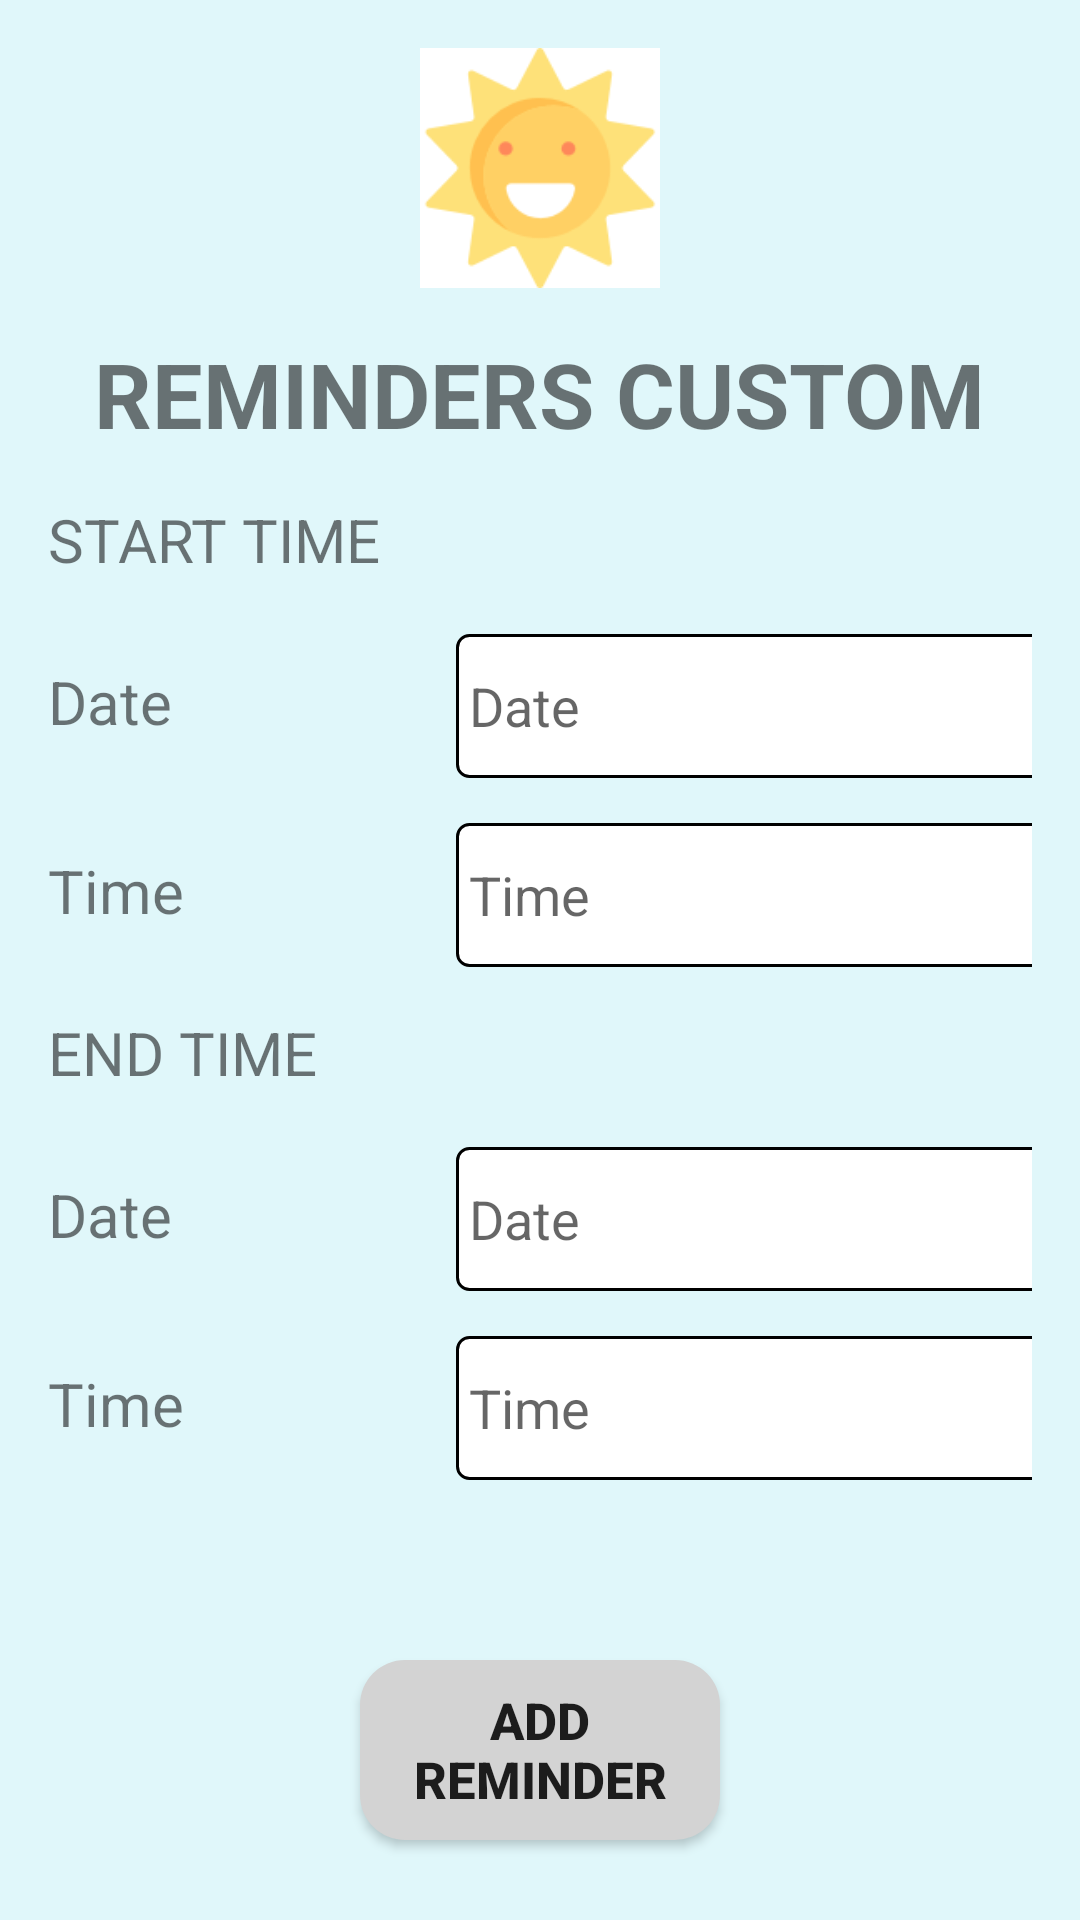

Icons on this 1080w x 1920h Android screen, each with its box as bbox=(x1, y1, x2, y2):
sun: bbox=(420, 48, 660, 288)
